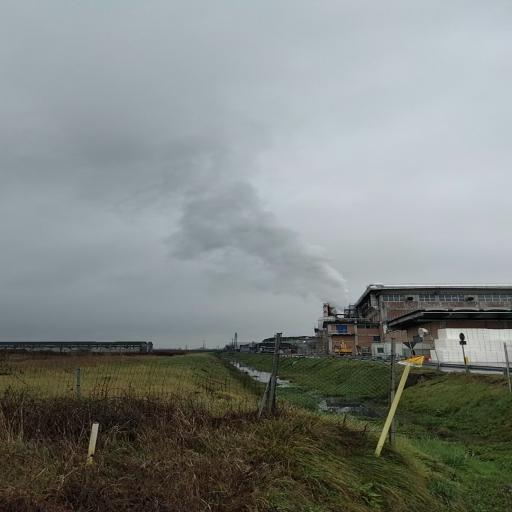leakage: (35, 113, 362, 320)
